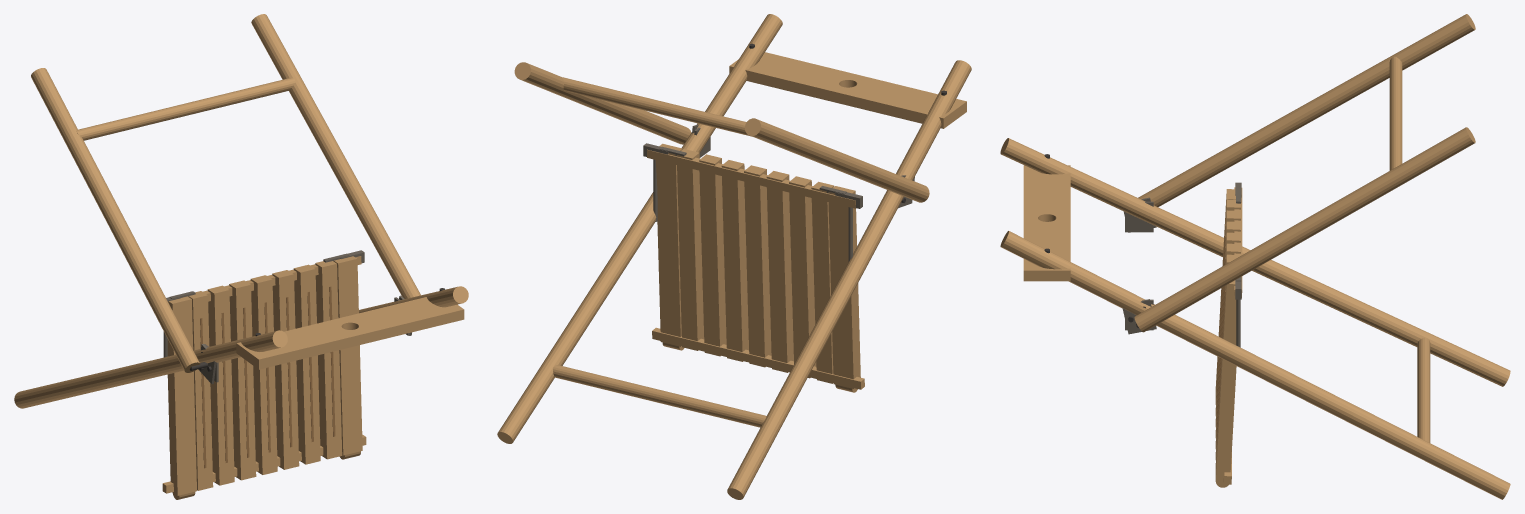
Rendered from chair_original_visuals.glb.
3 views of the same model, side by side, from view 1: azimuth 30°, elevation 25°; view 2: azimuth 150°, elevation 25°; view 3: azimuth 270°, elevation 25° (orthographic). The views are drawn at different scales.
Visible parts, largest first — view 1: world; view 2: world; view 3: world.
Part boxes in pixels (x1,y1,x2,y2): world: (14, 14, 468, 499); world: (497, 14, 971, 499); world: (1000, 14, 1510, 499).
Size of the model in its own units: 0.4517 by 0.627 by 0.7812.
